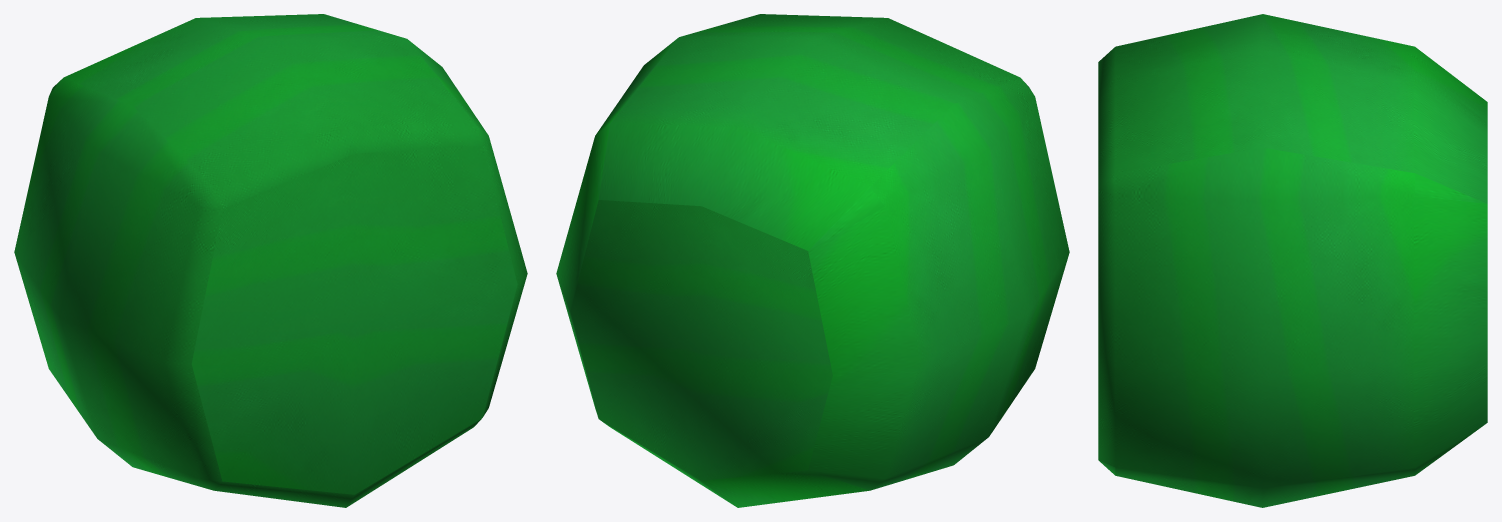
File: Bush01.FBX
3 renders of one model, left to right at view 1: azimuth 30°, elevation 25°; view 2: azimuth 150°, elevation 25°; view 3: azimuth 270°, elevation 25°, orthographic.
Parts seen in each view (by area): view 1: Bush01; view 2: Bush01; view 3: Bush01.
Boxes of the visible parts, x1,y1,x2,y2 form: Bush01: [14, 14, 527, 507]; Bush01: [556, 14, 1069, 507]; Bush01: [1098, 14, 1487, 507].
Bounding box in the file's own units: 17.77 × 14.07 × 17.77.
